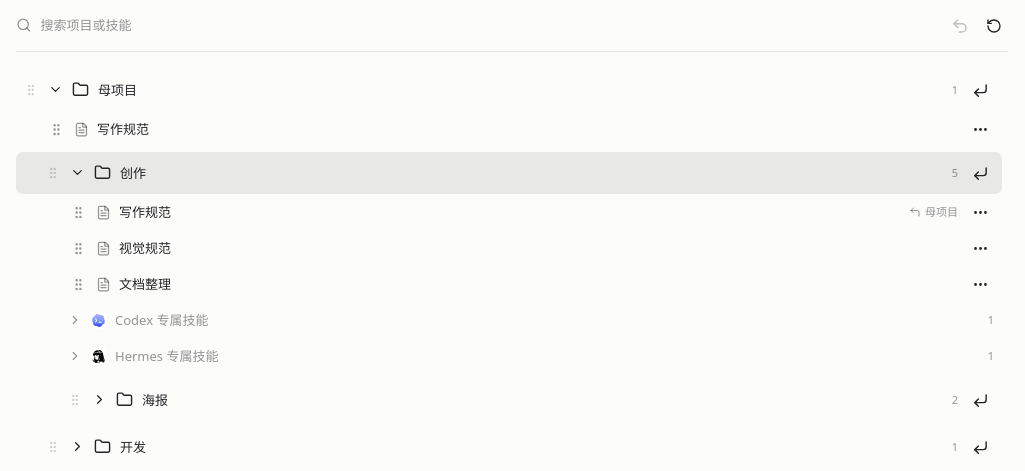
ProjectSkillTree › searches within folded descendants and native groups, then restores their folded state
Type "Codex" into the field labelled "搜索项目或技能" at (477, 25), box [41, 5, 914, 46]
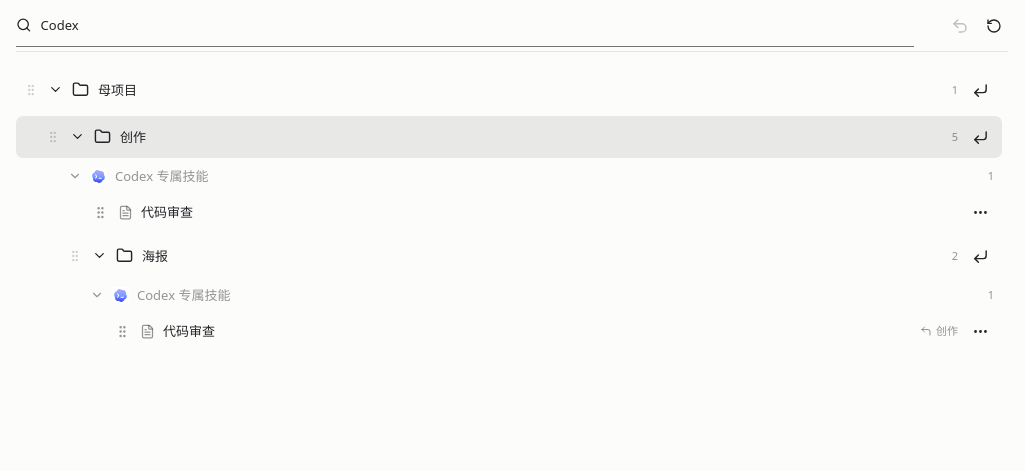
Now the button "开发" is gone
Clear the field named "搜索项目或技能" at (477, 25), box [41, 5, 914, 46]
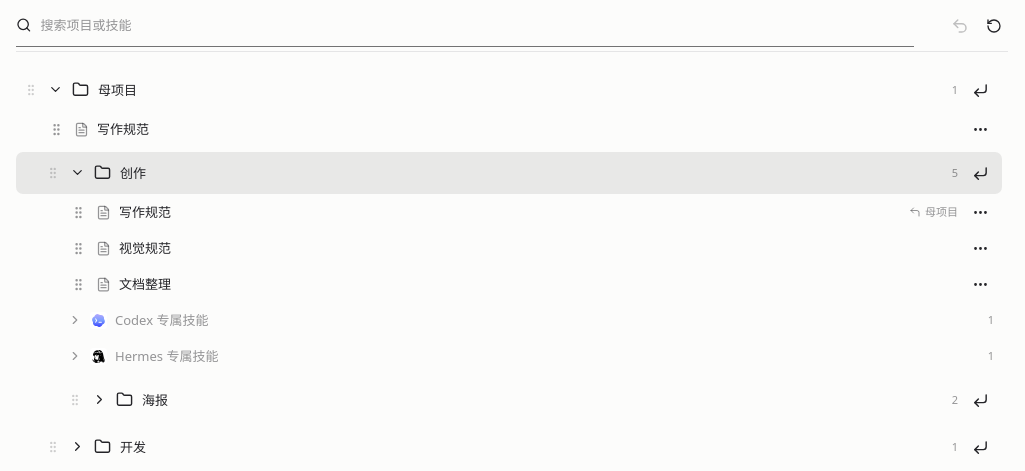
Now the button "Codex 专属技能 1" is collapsed, box [16, 302, 1002, 338]
Now the button "海报" is collapsed, box [92, 385, 932, 415]
